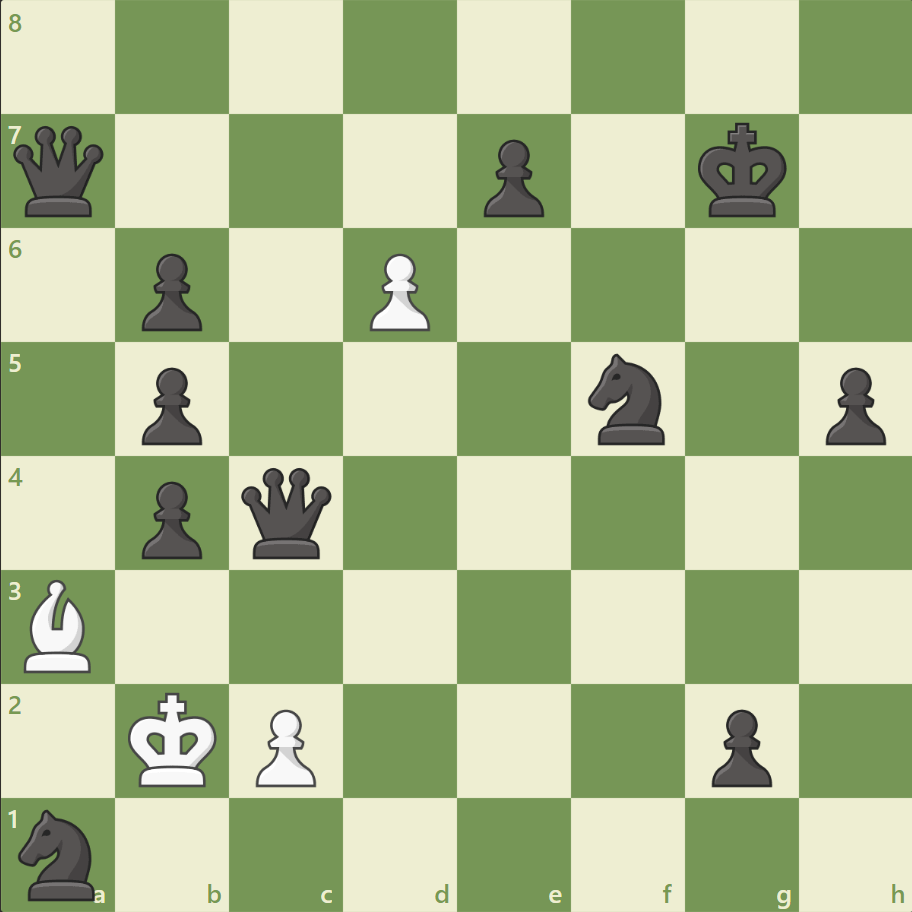B: (17, 574, 101, 676)
K: (124, 685, 224, 793)
P: (247, 700, 322, 791), (361, 246, 435, 337)
k: (692, 117, 792, 225)
n: (579, 348, 676, 450), (11, 802, 108, 904)
p: (474, 132, 549, 223), (133, 246, 208, 337), (133, 359, 208, 450), (133, 473, 208, 564), (701, 700, 776, 791), (815, 359, 889, 450)
q: (10, 122, 109, 222), (237, 463, 336, 562)
